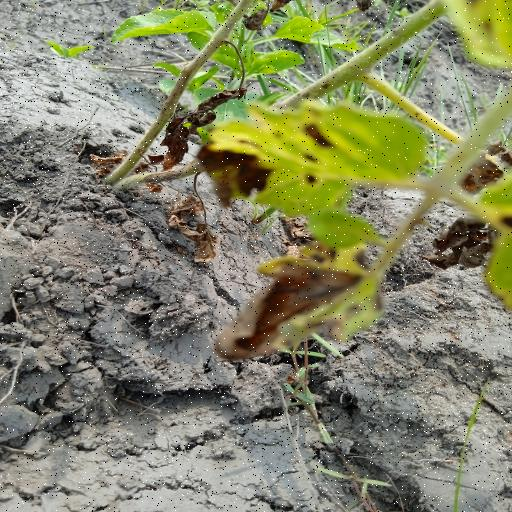Tomato_Brown_Spots: (199, 102, 444, 245)
